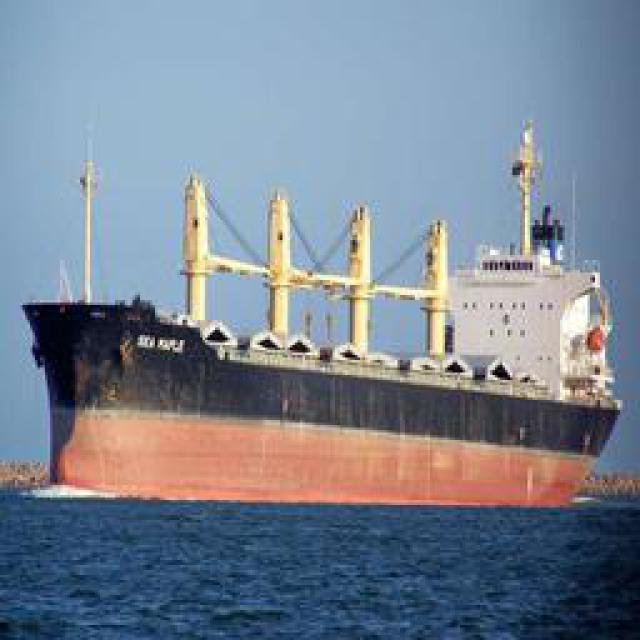Ship: (51, 155, 621, 510)
